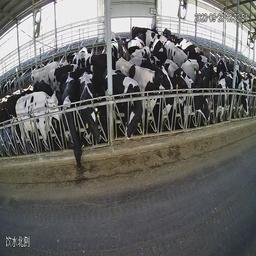cow: (105, 61, 147, 147), (14, 90, 59, 156), (59, 74, 86, 180), (79, 66, 106, 154), (136, 57, 175, 102), (210, 60, 235, 125), (193, 76, 215, 142), (173, 65, 195, 112), (235, 71, 250, 130), (168, 40, 189, 69), (123, 35, 144, 61)
